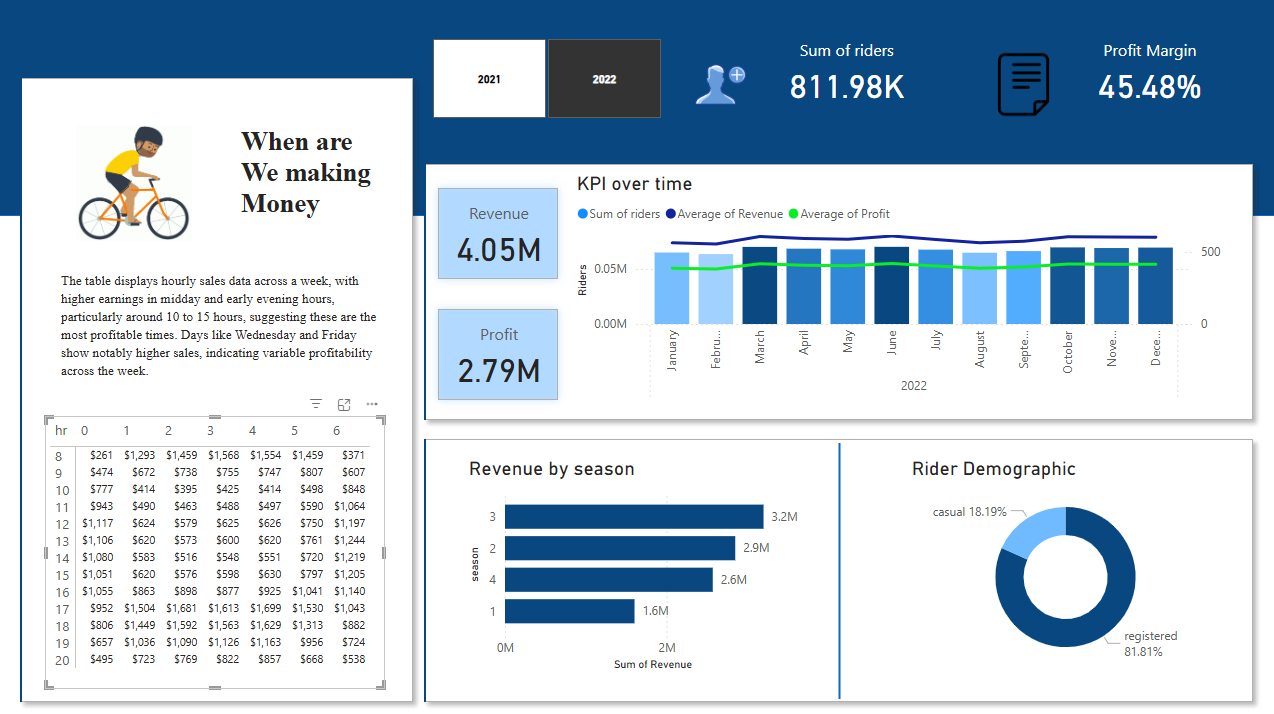

The page's visual inventory and layout, read from the dashboard file:
{"tool":"powerbi","page":{"name":"Page 2","canvas":[1280,720],"ordinal":0},"visuals":[{"type":"shape","box":[0,0,1280,216.9],"z":0},{"type":"cardVisual","fields":{"Data":["Sum(Query1.riders)"]},"box":[4.9,62.2,427,657.5],"z":1000},{"type":"cardVisual","fields":{"Data":["Sum(Query1.riders)"]},"box":[409.5,423.1,862.7,296.7],"z":2000},{"type":"cardVisual","fields":{"Data":["Sum(Query1.riders)"]},"box":[409.5,147.8,862.7,289.8],"z":3000},{"type":"cardVisual","fields":{"Data":["Sum(Query1.riders)"]},"box":[57.4,108.9,161.5,143],"z":4000},{"type":"pivotTable","fields":{"Values":["Avg(Query1.Revenue)"],"Columns":["Query1.weekday"],"Rows":["Query1.hr"]},"box":[58.4,414.3,321,261.6],"z":5000},{"type":"textbox","box":[238.3,121.6,148.8,130.3],"z":6000},{"type":"textbox","box":[58.4,266.5,328.8,133.3],"z":7000},{"type":"lineClusteredColumnComboChart","title":"KPI over time","fields":{"Category":["Query1.dteday.Variation.Date Hierarchy.Year","Query1.dteday.Variation.Date Hierarchy.Month"],"Y":["Sum(Query1.riders)"],"Y2":["Avg(Query1.Revenue)","Avg(Query1.Profit)"]},"box":[573.9,173.1,671.1,235.4],"z":7001},{"type":"clusteredBarChart","title":"Revenue by season","fields":{"Category":["Query1.season"],"Y":["Sum(Query1.Revenue)"]},"box":[465.9,458.1,351.1,217.9],"z":7002},{"type":"donutChart","title":"Rider Demographic","fields":{"Category":["Query1.rider_type"],"Y":["Sum(Query1.riders)"]},"box":[909.4,458.1,316.1,217.9],"z":7003},{"type":"shape","box":[825.8,443.5,31.1,256.8],"z":7004},{"type":"cardVisual","title":"KPI over time","fields":{"Data":["Sum(Query1.Revenue)","Sum(Query1.Profit)"]},"box":[424.1,173.1,151.7,244.1],"z":7005},{"type":"cardVisual","title":"KPI over time","fields":{"Data":["Sum(Query1.riders)","Query1.Profit Margin"]},"box":[648.8,11.7,608.9,136.2],"z":7006},{"type":"slicer","title":"KPI over time","fields":{"Values":["Query1.Year"]},"box":[409.5,33.1,277.2,93.4],"z":7007}]}

Visuals, with their boxes in screenshot pixels (x1, y1, x2, y2), scaled from the page's 1280x720 canvas onto the 1274x714 screenshot:
shape: x1=0 y1=0 x2=1273 y2=215
cardVisual - Sum(Query1.riders): x1=5 y1=62 x2=430 y2=713
cardVisual - Sum(Query1.riders): x1=408 y1=420 x2=1266 y2=713
cardVisual - Sum(Query1.riders): x1=408 y1=147 x2=1266 y2=434
cardVisual - Sum(Query1.riders): x1=57 y1=108 x2=218 y2=250
pivotTable - Avg(Query1.Revenue) x Query1.weekday: x1=58 y1=411 x2=378 y2=670
textbox: x1=237 y1=121 x2=385 y2=250
textbox: x1=58 y1=264 x2=385 y2=396
"KPI over time" lineClusteredColumnComboChart: x1=571 y1=172 x2=1239 y2=405
"Revenue by season" clusteredBarChart: x1=464 y1=454 x2=813 y2=670
"Rider Demographic" donutChart: x1=905 y1=454 x2=1220 y2=670
shape: x1=822 y1=440 x2=853 y2=694
"KPI over time" cardVisual: x1=422 y1=172 x2=573 y2=414
"KPI over time" cardVisual: x1=646 y1=12 x2=1252 y2=147
"KPI over time" slicer: x1=408 y1=33 x2=683 y2=125
